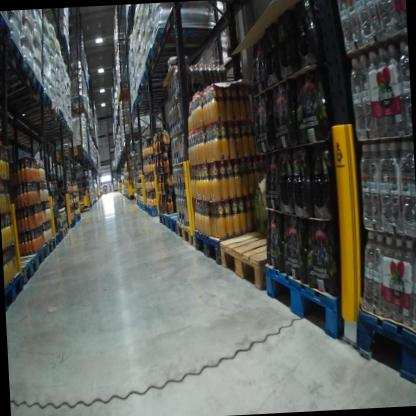pallet: (262, 251, 346, 351), (220, 223, 306, 298), (349, 300, 416, 387), (194, 221, 259, 269), (149, 19, 218, 58), (144, 38, 205, 72), (0, 76, 48, 115), (0, 89, 55, 120), (0, 57, 38, 100), (0, 35, 27, 76), (22, 104, 61, 128), (140, 66, 189, 84), (28, 129, 76, 146), (16, 249, 39, 283), (166, 208, 192, 238), (4, 272, 24, 311), (174, 218, 194, 249), (23, 117, 67, 130), (29, 241, 49, 267), (45, 229, 64, 249), (41, 233, 56, 258), (0, 11, 13, 37), (156, 209, 170, 231), (148, 201, 163, 220), (69, 98, 86, 114), (65, 218, 76, 234), (59, 225, 68, 242), (143, 202, 149, 215)
